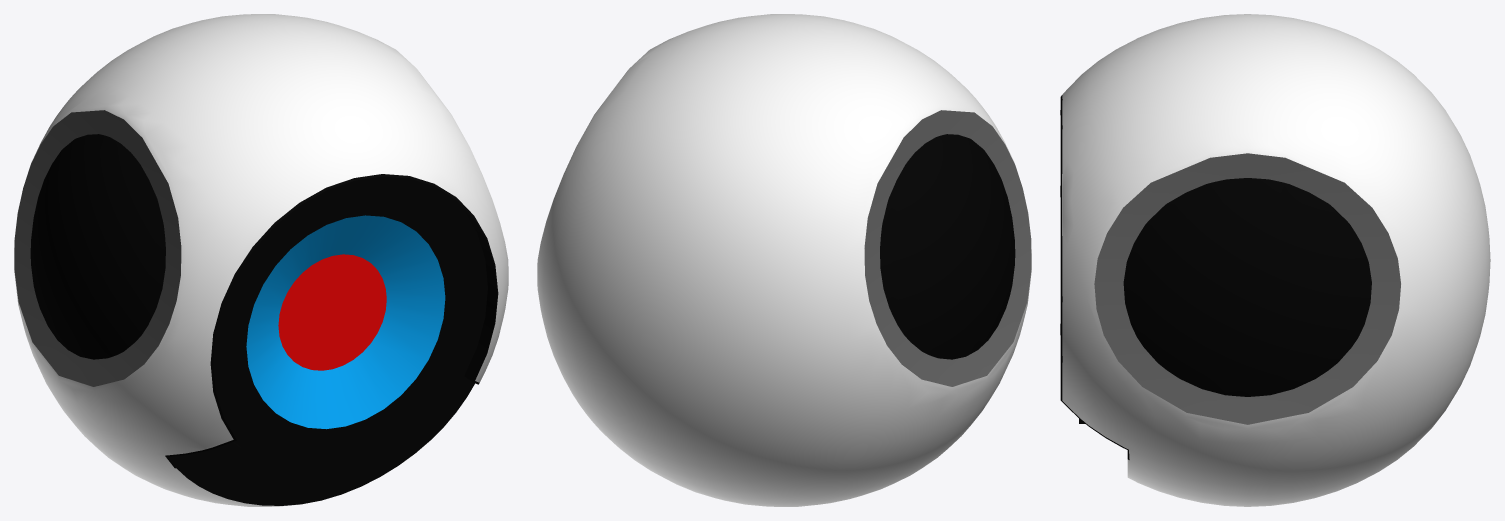
Rendered from PlayerModel.fbx.
3 views of the same model, side by side, from view 1: azimuth 30°, elevation 25°; view 2: azimuth 150°, elevation 25°; view 3: azimuth 270°, elevation 25° (orthographic).
Parts seen in each view (by area): view 1: PlayerModel; view 2: PlayerModel; view 3: PlayerModel.
Part boxes in pixels (<box>): PlayerModel: <box>14,14,508,506</box>; PlayerModel: <box>537,14,1031,506</box>; PlayerModel: <box>1060,14,1490,506</box>.
Bounding box in the file's own units: 162 × 168 × 149.
